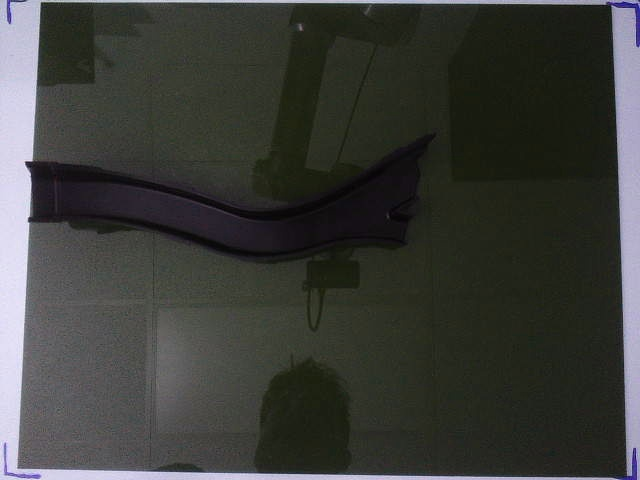887_B-Under: (26, 130, 435, 263)
